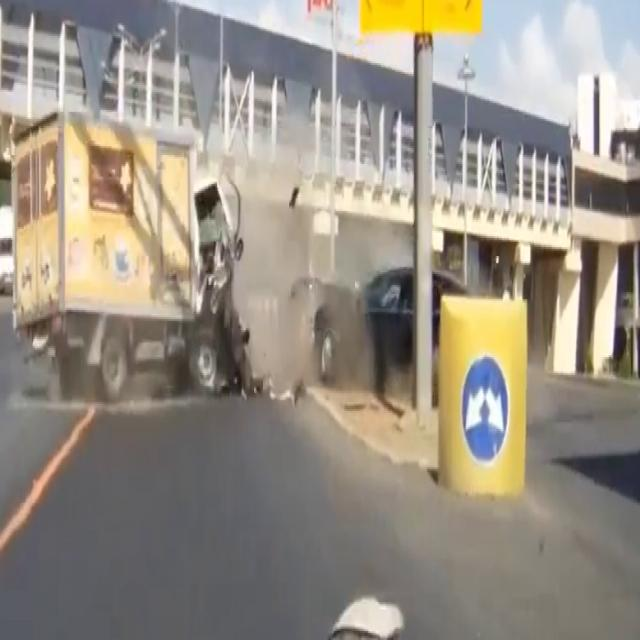accident: (8, 98, 440, 419)
